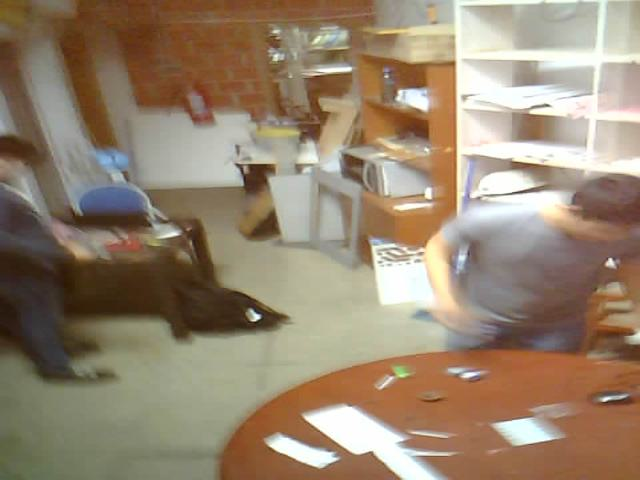person: (387, 138, 640, 375), (2, 115, 137, 409)
